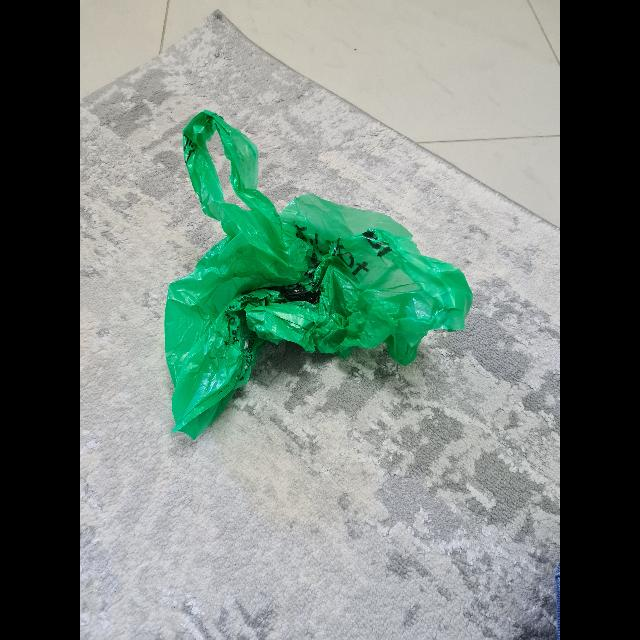plastic_bag: (168, 114, 468, 432)
